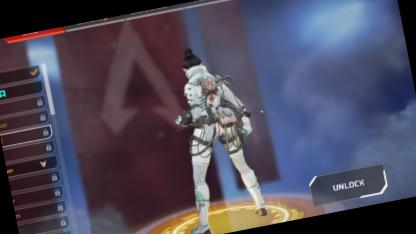Target: (170, 39, 252, 196)
